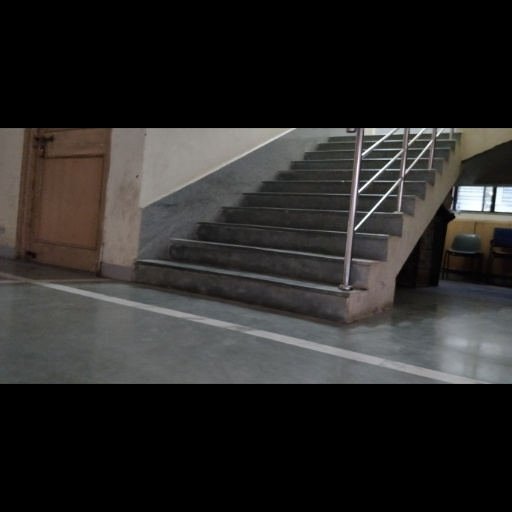Stairs: (138, 130, 466, 302)
